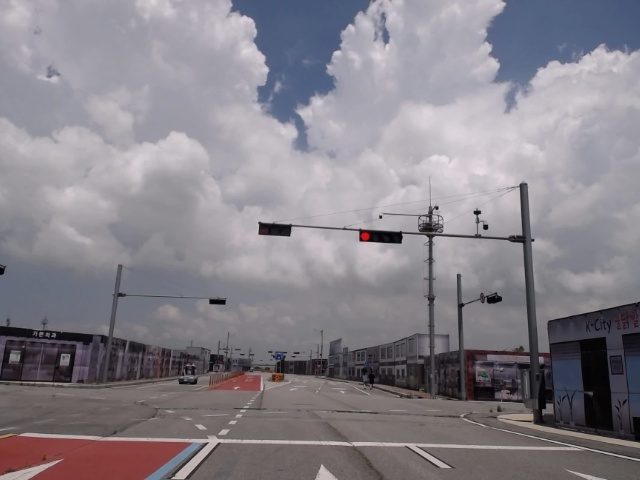red_4: (360, 231, 402, 244)
